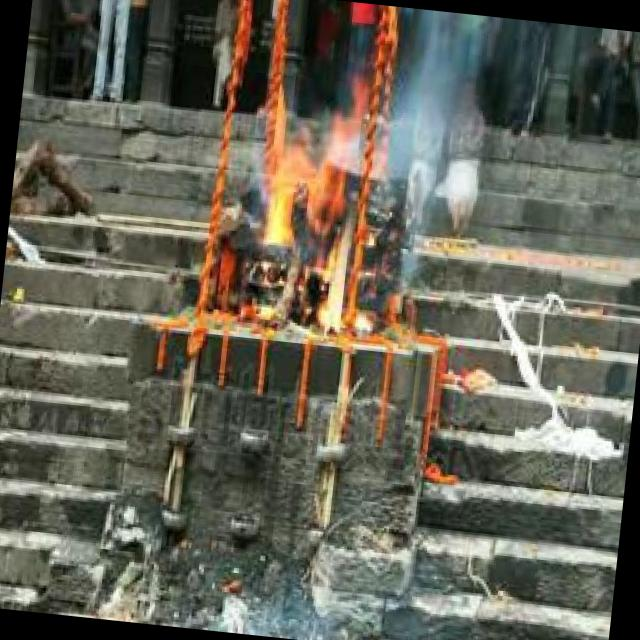Fire: (247, 112, 367, 337)
